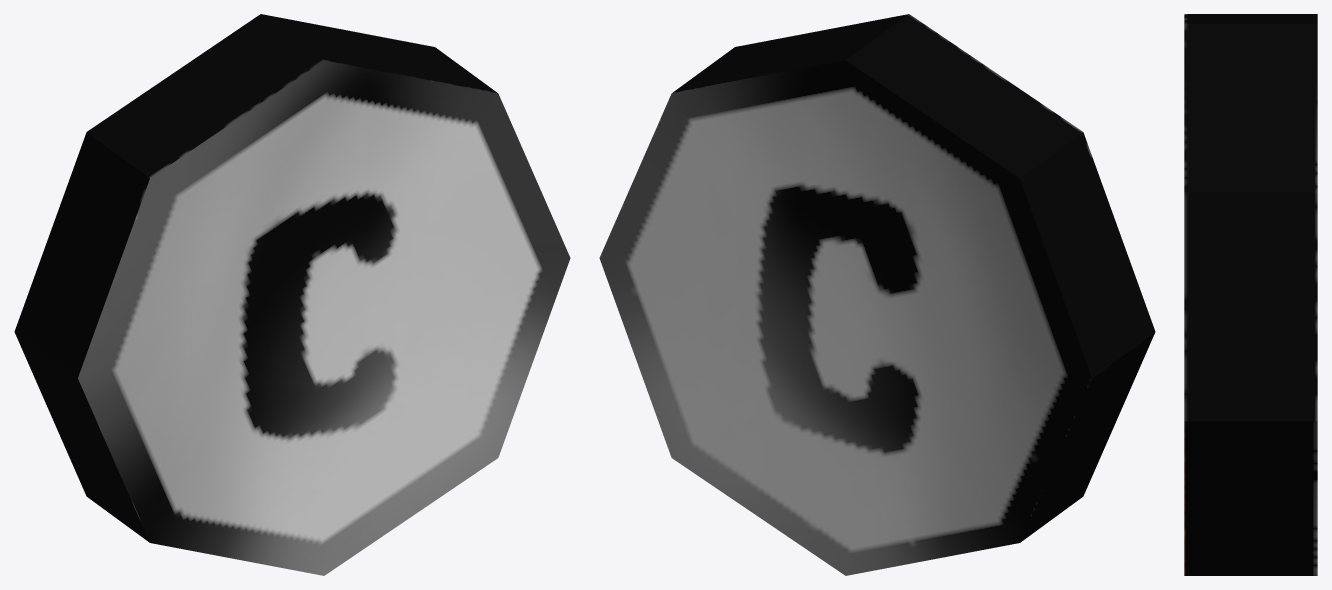
The model's file is Silver.fbx.
3 views of the same model, side by side, from view 1: azimuth 30°, elevation 25°; view 2: azimuth 150°, elevation 25°; view 3: azimuth 270°, elevation 25° (orthographic). The views are drawn at different scales.
Parts seen in each view (by area): view 1: Silver; view 2: Silver; view 3: Silver.
Part boxes in pixels (left/top/right/bottom): Silver: left=14, top=14, right=570, bottom=575; Silver: left=599, top=14, right=1155, bottom=575; Silver: left=1184, top=14, right=1317, bottom=575.
Size of the model in its own units: 126 by 126 by 28.11.
1 material, 1 textured.
